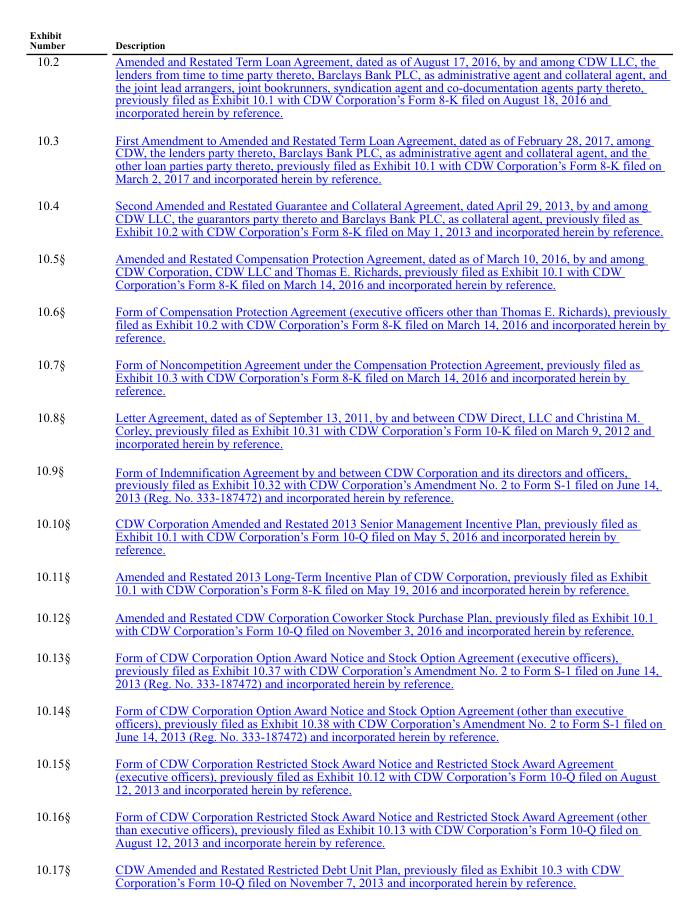table: (28, 28, 666, 888)
table column: (92, 28, 666, 888), (28, 28, 92, 888)
table column header: (28, 28, 666, 52)
table row: (28, 52, 666, 125), (28, 125, 666, 191), (28, 191, 666, 244), (28, 244, 666, 297), (28, 297, 666, 350), (28, 350, 666, 403), (28, 403, 666, 456), (28, 456, 666, 509), (28, 509, 666, 562), (28, 643, 666, 696), (28, 696, 666, 749), (28, 749, 666, 802), (28, 802, 666, 855), (28, 602, 666, 643), (28, 562, 666, 602), (28, 855, 666, 888), (28, 28, 666, 52)
